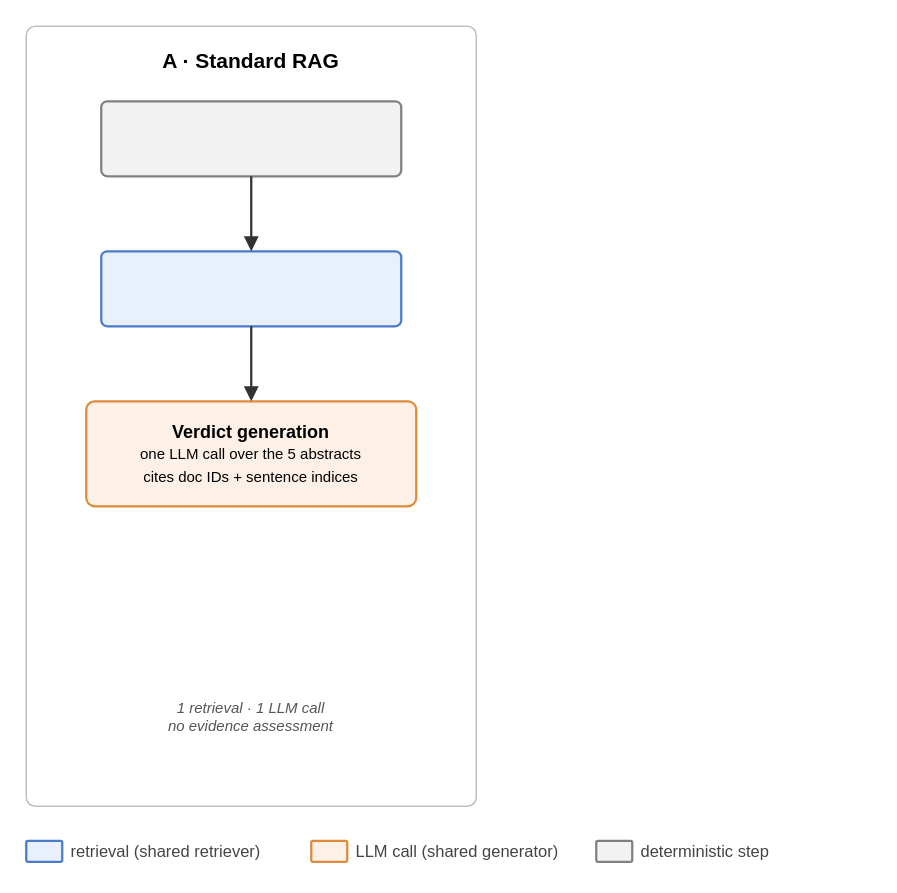
The diagram is 897 pixels wide and 893 high, and some of its shapes have lost their labels. Each missing label, with the centre of its shape:
"Claim used as query no rewriting" belongs at point 250,138.
"Dense retrieval single pass · top-5 abstracts" belongs at point 250,288.
